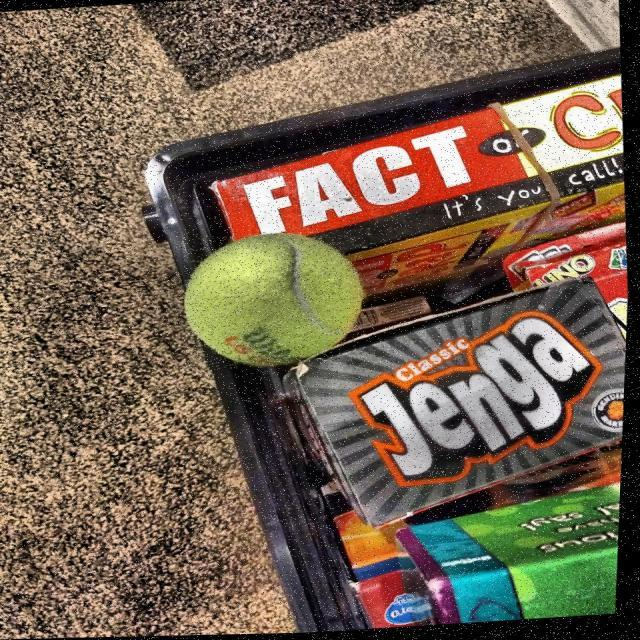tennis-ball: (181, 229, 375, 373)
